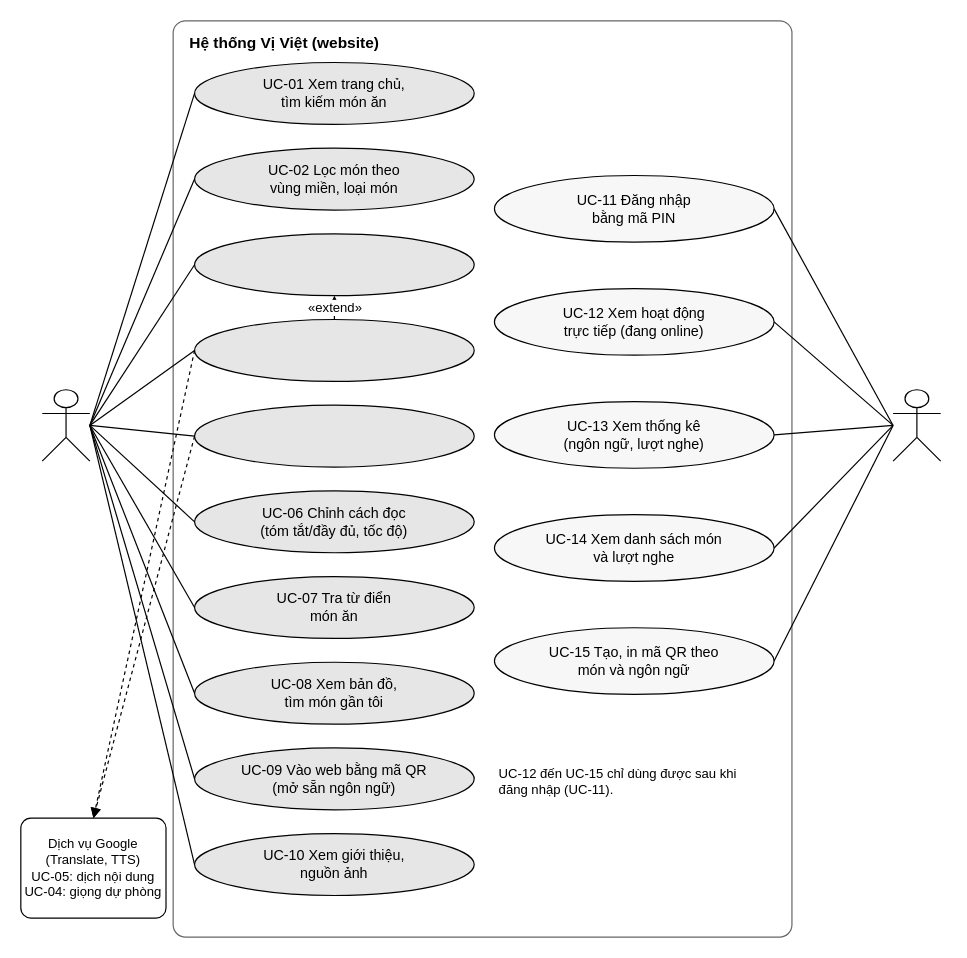
This 967x958 diagram has some shape labels left out. Here are the shapes that lost their labels. From the top down, the centre of each, then its label:
(x=333, y=264): UC-03 Xem chi tiết món ăn
(x=333, y=349): UC-04 Nghe thuyết minh (đọc từng câu)
(x=65, y=425): Khách tham quan
(x=333, y=435): UC-05 Chọn ngôn ngữ
(x=916, y=425): Quản trị viên
